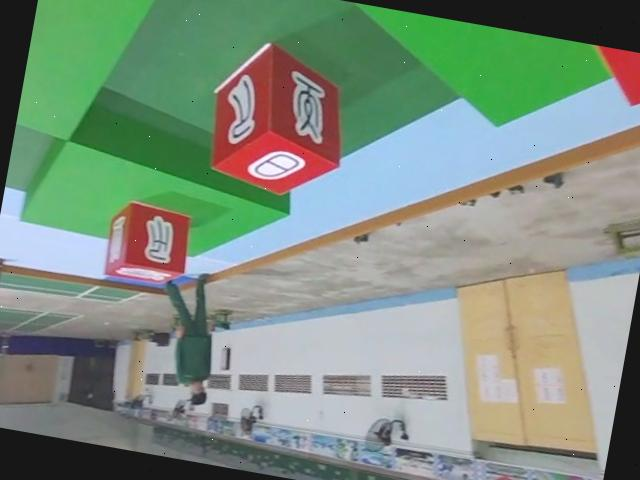R2 Fake: (200, 37, 357, 205), (101, 199, 197, 291)
